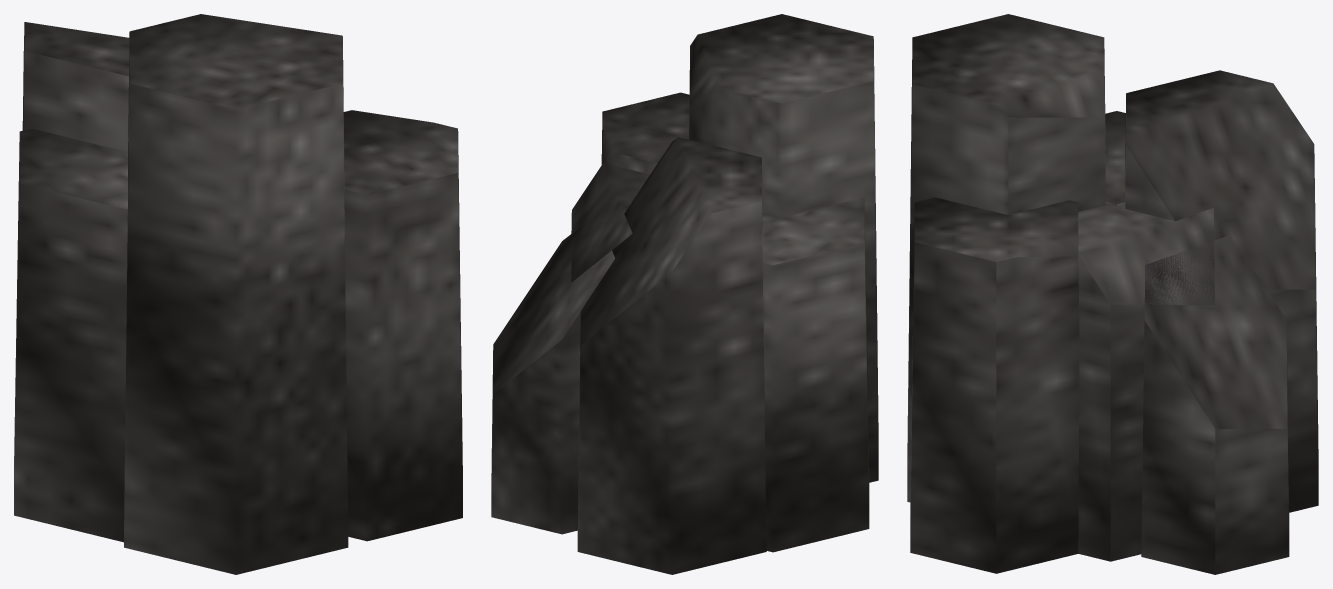
Rendered from boulder_3.glb.
The picture shows the model from 3 angles, left to right: view 1: azimuth 30°, elevation 25°; view 2: azimuth 150°, elevation 25°; view 3: azimuth 270°, elevation 25°; orthographic projection. The views are drawn at different scales.
Visible parts, largest first — view 1: boulder_3; view 2: boulder_3; view 3: boulder_3.
Part boxes in pixels (x1,y1,x2,y2): boulder_3: (14, 14, 462, 574); boulder_3: (491, 14, 878, 574); boulder_3: (907, 14, 1318, 574).
Size of the model in its own units: 1.73 by 1.99 by 1.79.
Materials: 1 (1 with a texture image).
